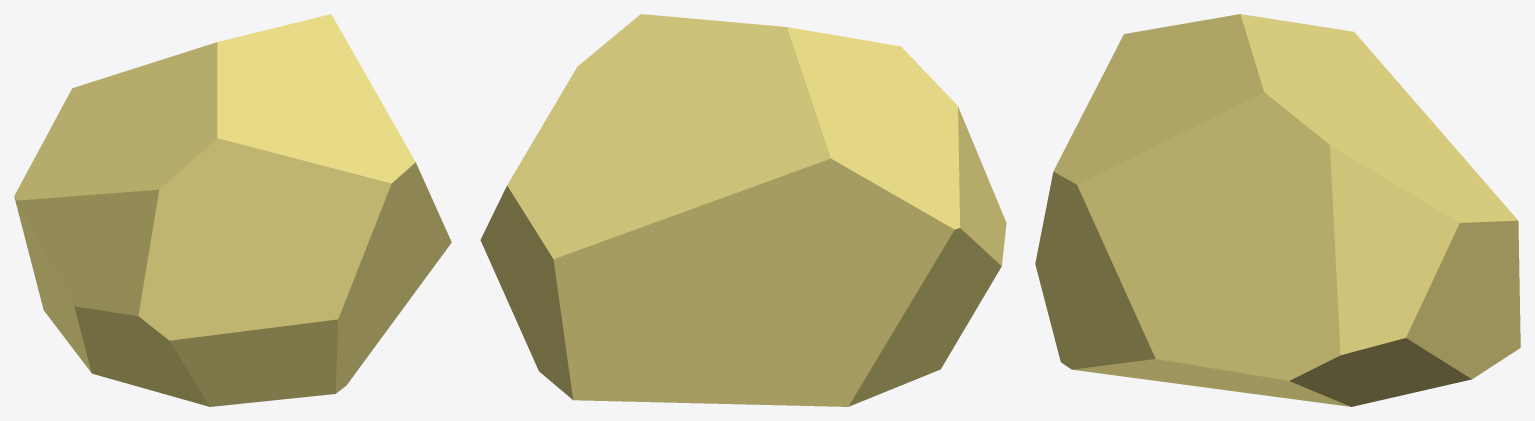
File: RockType2 04.fbx
The picture shows the model from 3 angles, left to right: view 1: azimuth 30°, elevation 25°; view 2: azimuth 150°, elevation 25°; view 3: azimuth 270°, elevation 25°; orthographic projection. The views are drawn at different scales.
Parts seen in each view (by area): view 1: Rock Type2 04 mesh; view 2: Rock Type2 04 mesh; view 3: Rock Type2 04 mesh.
Part boxes in pixels (left/top/right/bottom): Rock Type2 04 mesh: left=14, top=14, right=451, bottom=406; Rock Type2 04 mesh: left=480, top=14, right=1006, bottom=406; Rock Type2 04 mesh: left=1035, top=14, right=1520, bottom=406.
Size of the model in its own units: 81.01 by 57.17 by 76.51.
